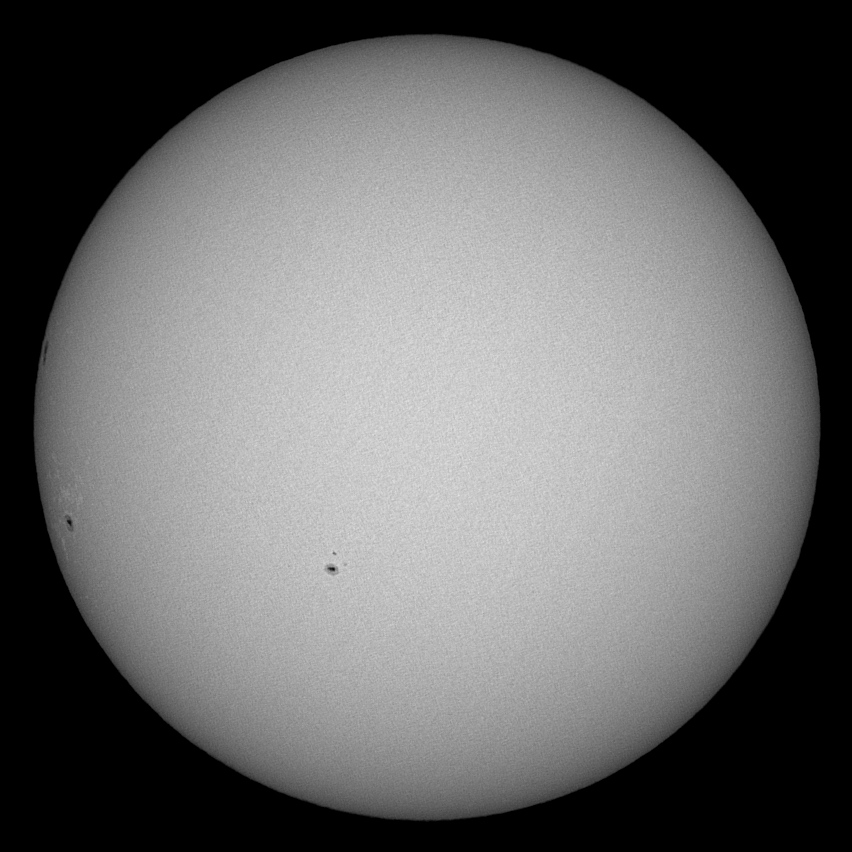sunspot: (322, 550, 349, 576), (62, 514, 75, 530)
